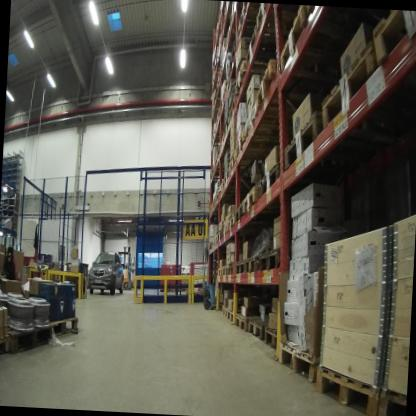forklift: (111, 238, 134, 295)
pallet: (311, 34, 383, 150), (275, 7, 346, 75), (308, 354, 381, 416), (281, 103, 329, 180), (365, 10, 416, 78), (252, 56, 310, 111), (242, 28, 298, 80), (2, 313, 55, 362), (272, 338, 329, 382), (233, 52, 283, 101), (239, 102, 297, 143), (45, 306, 83, 353), (233, 123, 284, 158), (226, 144, 280, 176), (256, 151, 285, 209), (252, 4, 304, 32), (233, 12, 270, 47), (247, 309, 283, 342), (221, 167, 261, 193), (260, 324, 288, 355), (258, 243, 285, 274), (242, 180, 262, 220), (225, 95, 248, 128), (225, 42, 248, 75), (234, 306, 262, 333), (378, 391, 406, 416), (0, 328, 14, 367), (242, 248, 261, 276), (226, 302, 247, 325), (235, 194, 245, 225), (234, 253, 245, 278), (228, 209, 238, 233), (220, 303, 231, 321), (229, 257, 237, 278), (224, 217, 232, 235), (224, 260, 232, 277), (216, 227, 224, 244), (212, 230, 218, 247), (158, 285, 170, 293), (216, 263, 223, 276), (169, 286, 180, 293), (178, 284, 186, 293), (221, 263, 226, 277), (222, 223, 226, 239)
pallet_truck: (204, 246, 226, 311), (199, 242, 208, 307)
